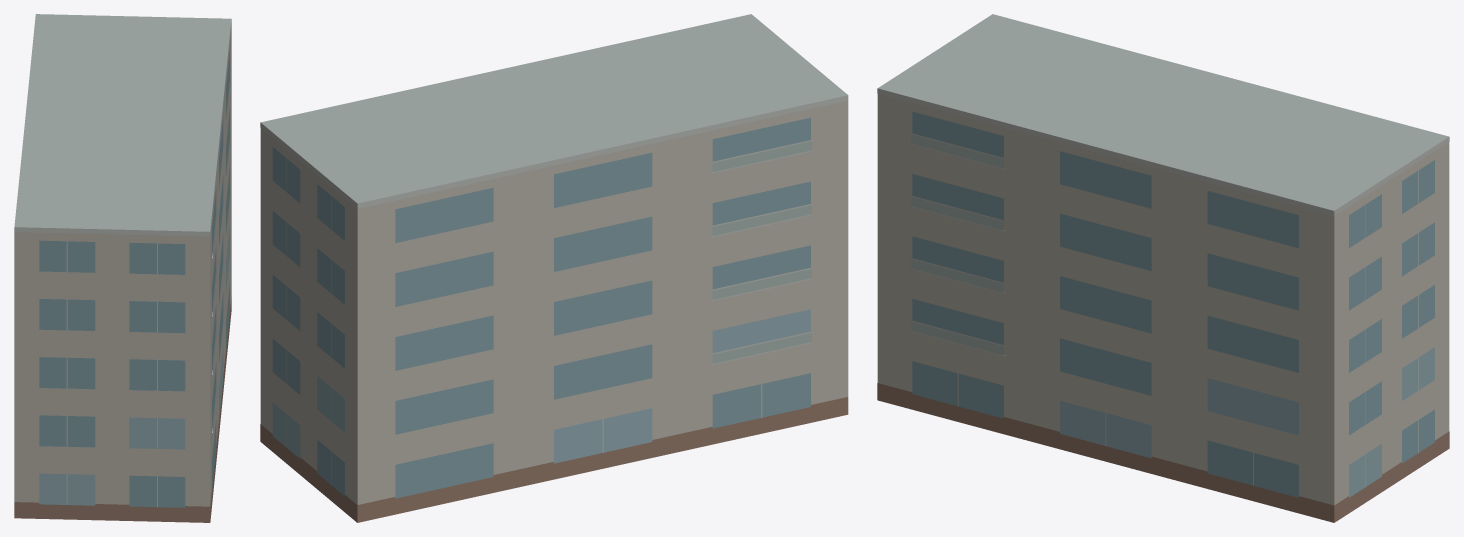
The model's file is survey-upis-32943305.glb.
The picture shows the model from 3 angles, left to right: view 1: azimuth 30°, elevation 25°; view 2: azimuth 150°, elevation 25°; view 3: azimuth 270°, elevation 25°; orthographic projection. The views are drawn at different scales.
Parts seen in each view (by area): view 1: survey-upis-32943305.tmp; view 2: survey-upis-32943305.tmp; view 3: survey-upis-32943305.tmp.
Part boxes in pixels (x1=…): survey-upis-32943305.tmp: x1=14, y1=14, x2=231, y2=522; survey-upis-32943305.tmp: x1=260, y1=14, x2=848, y2=522; survey-upis-32943305.tmp: x1=877, y1=14, x2=1449, y2=522.
Size of the model in its own units: 19.77 by 14.6 by 24.26.
